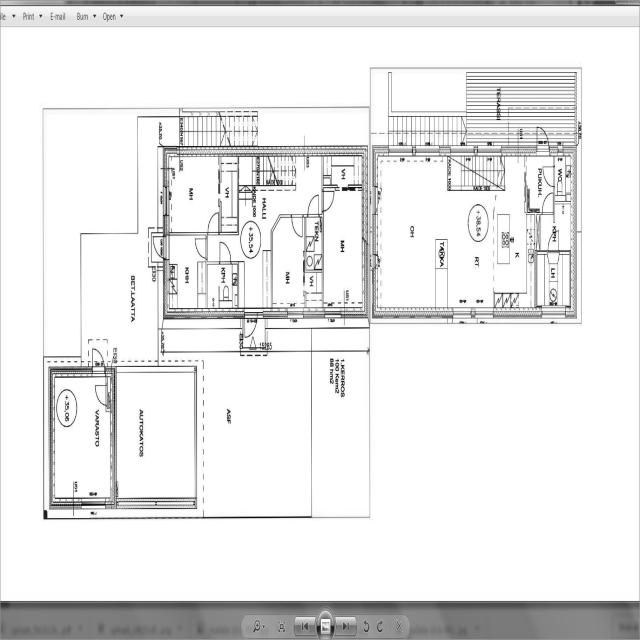door: (240, 221, 261, 258), (94, 377, 111, 407), (91, 343, 106, 374), (536, 123, 551, 153), (243, 314, 259, 342), (306, 190, 321, 217), (151, 232, 166, 258), (194, 233, 209, 258), (322, 186, 336, 212), (541, 190, 555, 216), (291, 212, 304, 239), (547, 227, 560, 254), (207, 208, 220, 234), (219, 238, 232, 264), (542, 163, 555, 186), (272, 213, 284, 232)
window: (110, 415, 118, 481), (78, 497, 107, 513), (451, 306, 475, 322), (542, 306, 565, 320), (324, 307, 344, 321), (475, 308, 493, 323), (162, 178, 168, 216), (286, 309, 303, 321)
zone: (376, 160, 536, 314), (112, 359, 198, 508), (50, 372, 115, 506), (322, 186, 366, 313), (165, 152, 223, 232), (306, 198, 349, 292), (165, 230, 208, 315), (271, 214, 304, 314), (534, 251, 573, 313), (206, 260, 241, 313), (526, 157, 555, 210), (220, 154, 238, 228), (326, 154, 364, 188), (304, 212, 324, 268), (237, 156, 274, 186), (303, 270, 324, 314), (554, 154, 573, 199)
